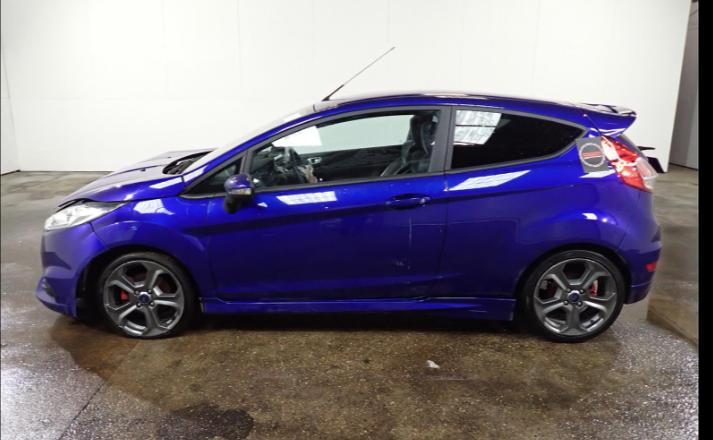Broken part: (51, 195, 172, 215), (88, 222, 108, 249)
Dent: (99, 207, 135, 244)
